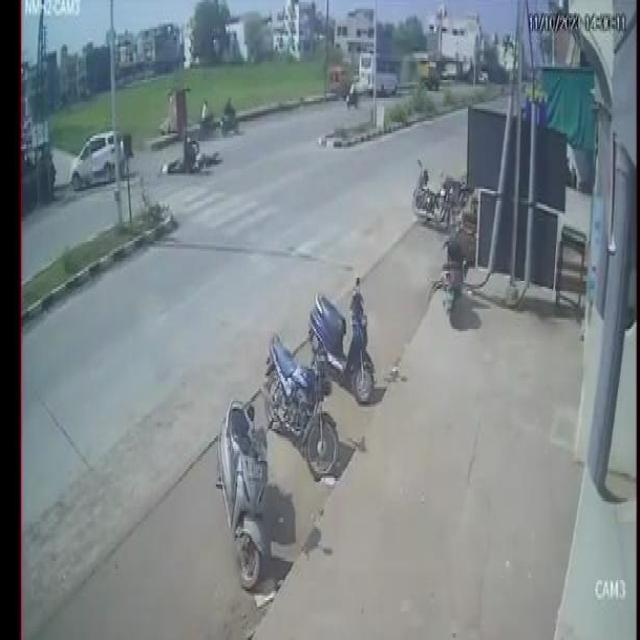accident: (157, 118, 223, 174)
